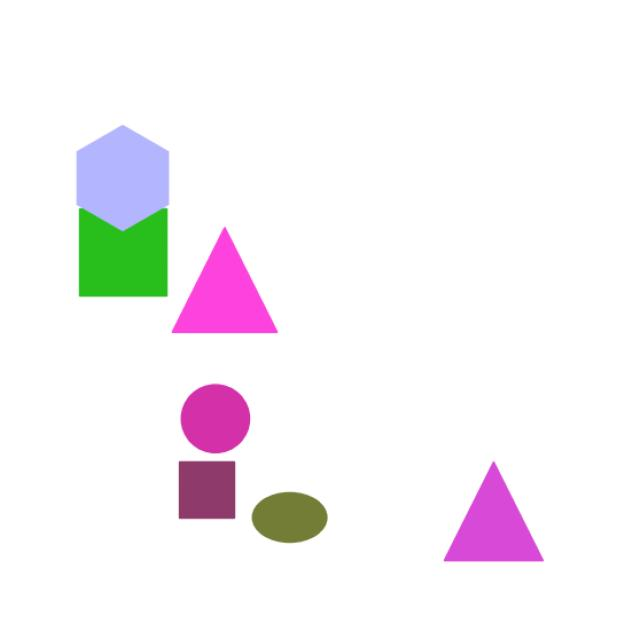Circle: (174, 378, 256, 456)
Hexagon: (58, 116, 180, 233)
Oval: (246, 484, 338, 555)
Triangle: (155, 217, 298, 345), (434, 455, 555, 573)
square: (61, 192, 188, 310), (166, 455, 248, 530)
